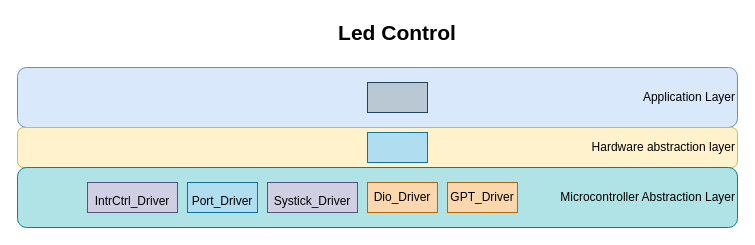
Some shapes in this 755 by 245 pixel diagram are drawn without their labels. The centre of each missing label's shape, as x and y in pixels:
"Led" belongs at [397,147].
"main" belongs at [397,97].
